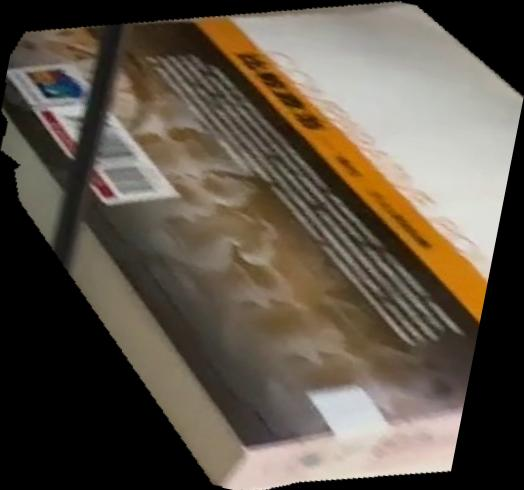flat: (1, 1, 524, 490)
